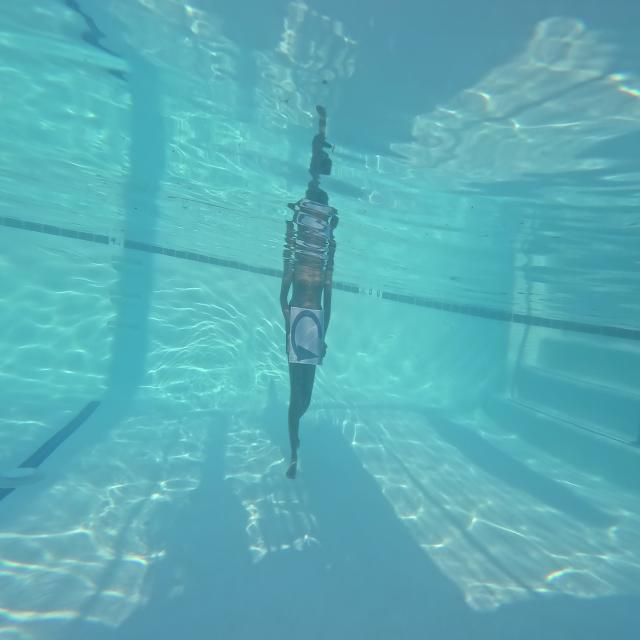blue_side: (288, 302, 328, 362)
